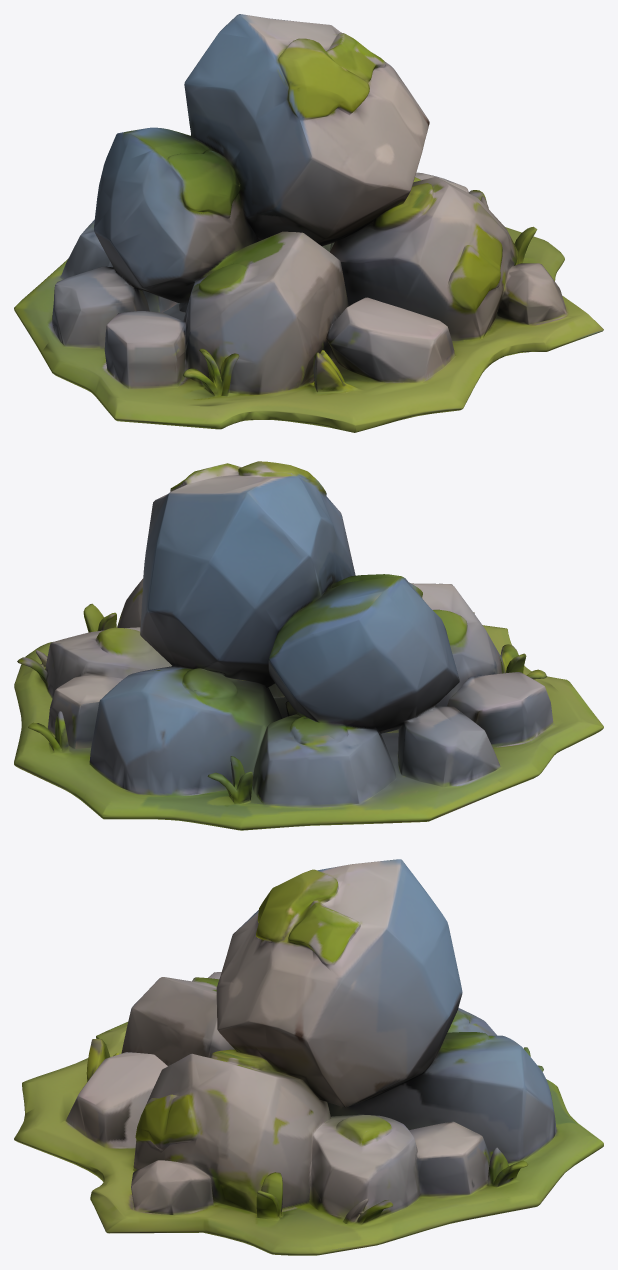
The model's file is pile stone.fbx.
3 renders of one model, top to bottom at view 1: azimuth 30°, elevation 25°; view 2: azimuth 150°, elevation 25°; view 3: azimuth 270°, elevation 25°, orthographic.
Parts seen in each view (by area): view 1: pile stone; view 2: pile stone; view 3: pile stone.
Part boxes in pixels (x1=…): pile stone: x1=14, y1=14, x2=603, y2=432; pile stone: x1=14, y1=461, x2=603, y2=830; pile stone: x1=14, y1=859, x2=603, y2=1255.
Size of the model in its own units: 45.44 by 22.76 by 45.54.
1 material, 1 textured.
